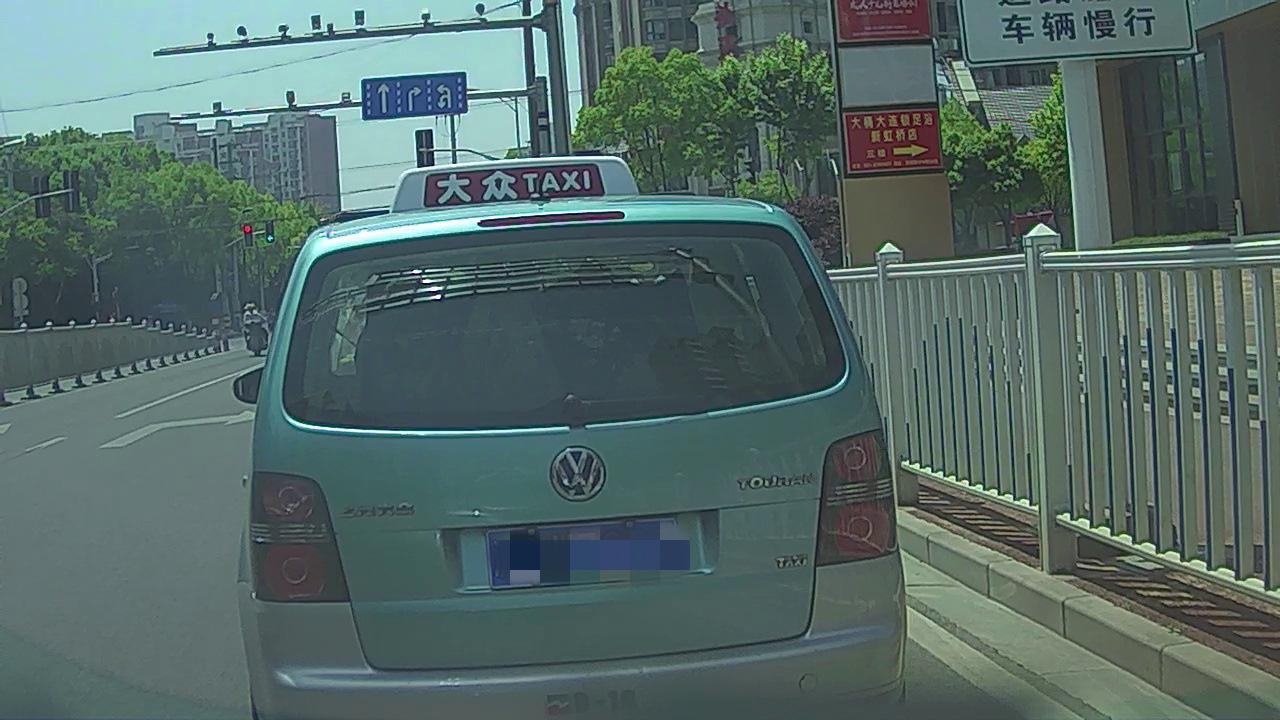traffic_light: (244, 223, 253, 246), (266, 220, 274, 242)
